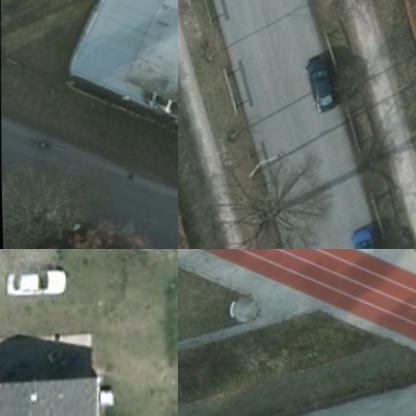car: (0, 269, 67, 300), (301, 55, 332, 112), (348, 223, 377, 248)
